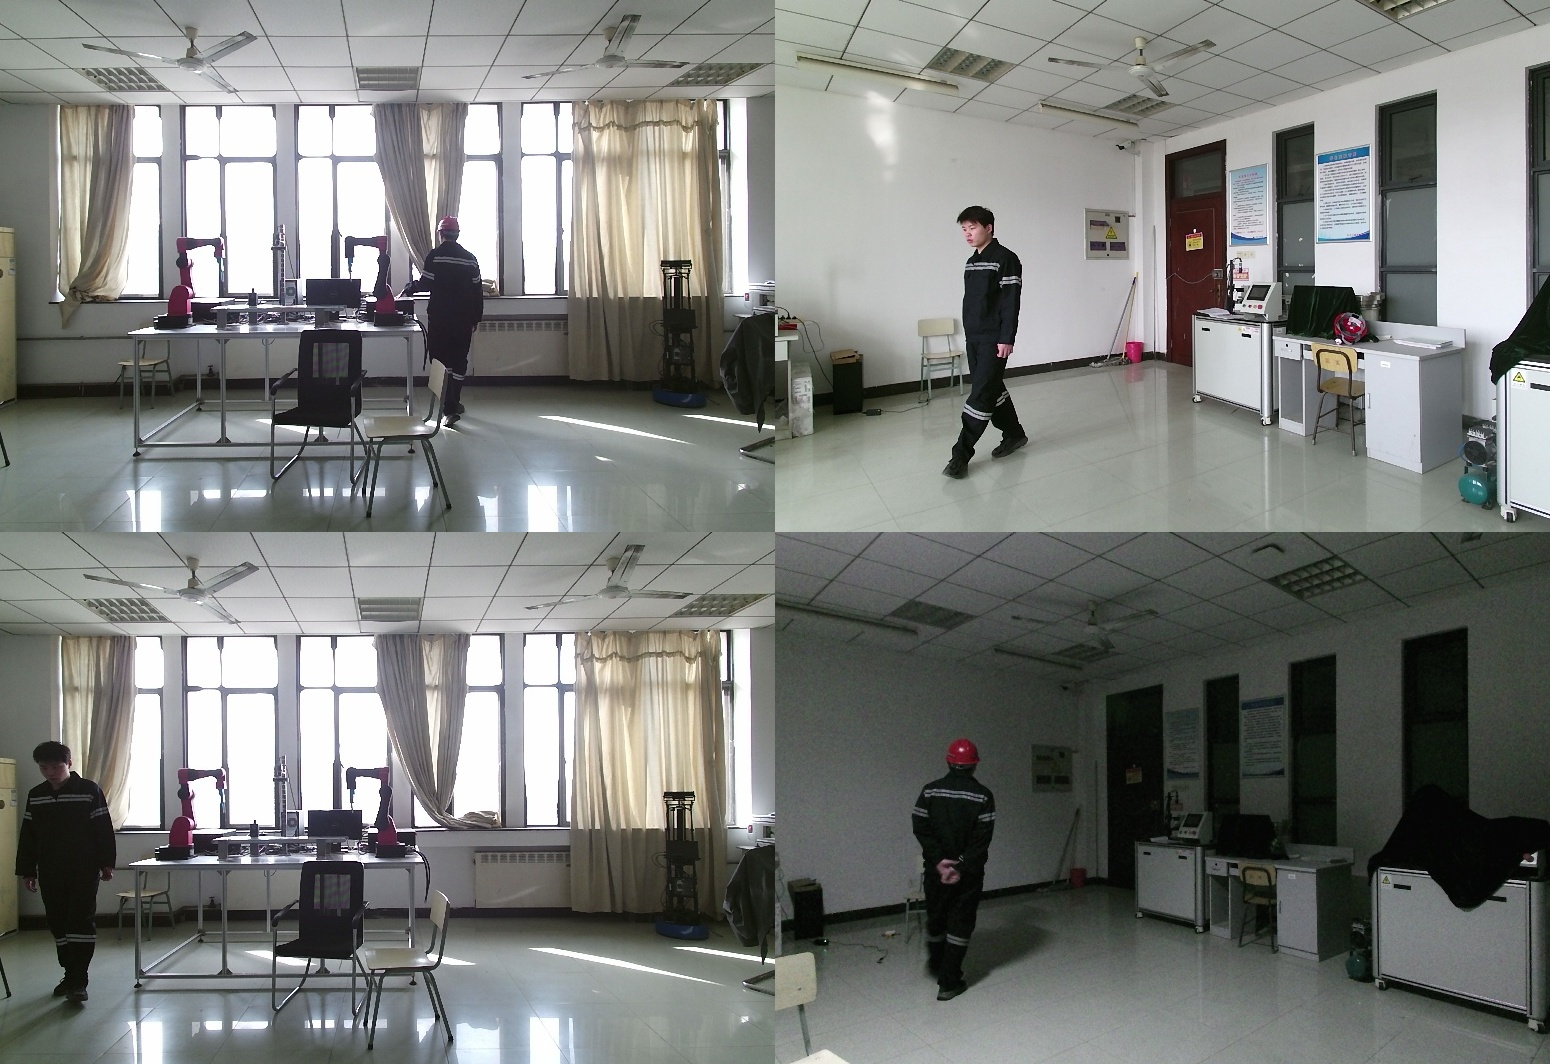person: (860, 740, 1049, 1000), (16, 741, 120, 997), (943, 207, 1035, 477), (400, 216, 488, 426)
